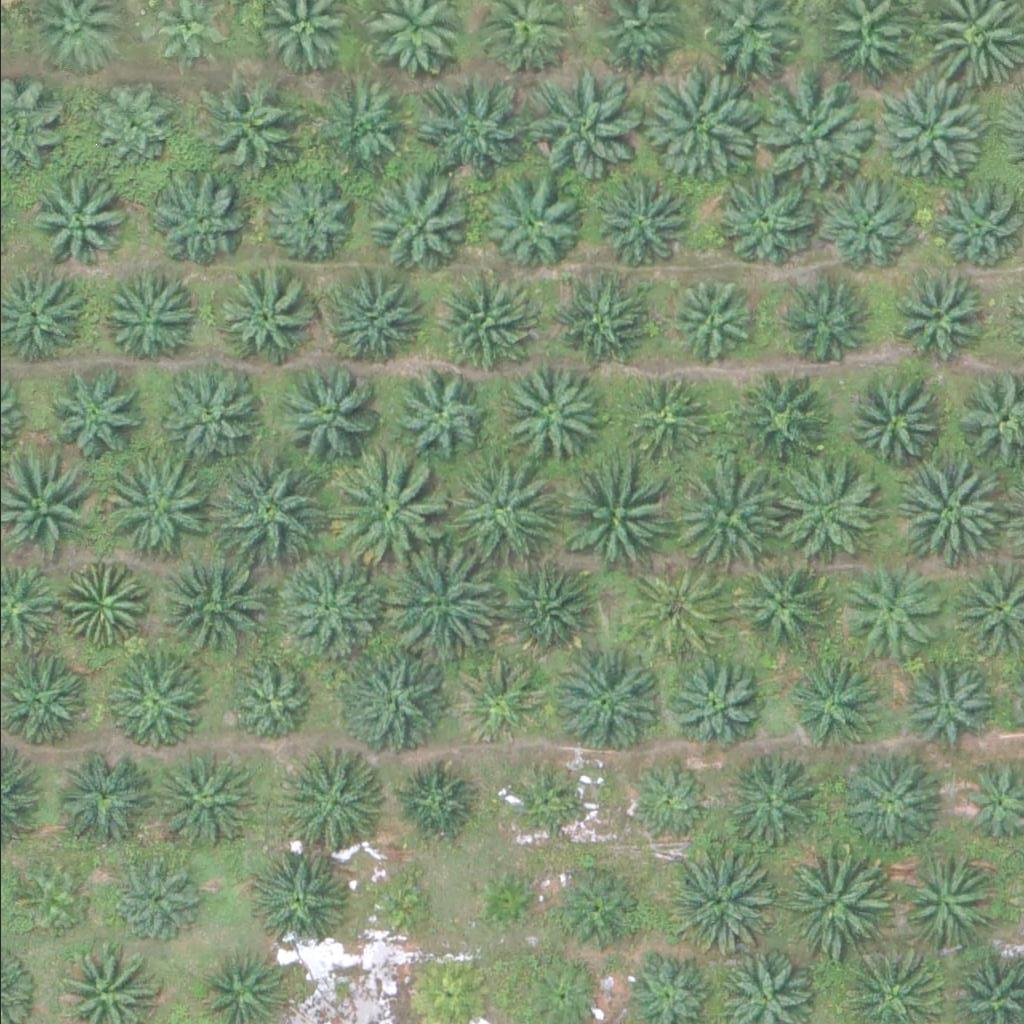Kelapa_Sawit: (441, 450, 555, 563), (669, 459, 783, 572), (95, 455, 208, 568), (211, 454, 324, 567), (663, 843, 776, 956), (775, 844, 888, 957), (762, 453, 875, 566), (891, 459, 1004, 572), (642, 67, 755, 180), (758, 80, 871, 193), (872, 71, 985, 184), (273, 555, 387, 667), (566, 461, 680, 573), (415, 68, 528, 180), (328, 452, 441, 564), (380, 542, 493, 654), (159, 547, 272, 659), (339, 645, 452, 757), (549, 644, 662, 756), (526, 74, 639, 186), (315, 74, 416, 174), (204, 77, 305, 177), (481, 171, 582, 271), (27, 177, 128, 277), (213, 269, 314, 369), (437, 270, 538, 370), (386, 367, 487, 467), (276, 365, 377, 465), (40, 360, 141, 460), (109, 651, 210, 751), (145, 753, 246, 853), (54, 751, 155, 851), (247, 844, 348, 944), (894, 851, 995, 951), (834, 749, 935, 849), (721, 751, 822, 851), (662, 653, 763, 753), (844, 559, 945, 659), (734, 556, 835, 656), (549, 272, 650, 372), (716, 171, 817, 271), (590, 169, 691, 269), (922, 174, 1022, 274), (363, 176, 463, 276), (146, 167, 246, 267), (98, 270, 198, 370), (327, 277, 427, 377), (496, 361, 596, 461), (159, 364, 259, 464), (492, 557, 592, 657), (284, 750, 384, 850), (626, 562, 726, 662), (844, 373, 944, 473), (730, 373, 830, 473), (779, 276, 879, 376), (888, 268, 988, 368), (815, 177, 915, 277), (85, 81, 173, 169), (621, 756, 709, 844), (789, 659, 877, 747), (898, 658, 986, 746), (623, 372, 711, 460), (661, 274, 749, 362), (456, 659, 544, 746), (264, 176, 352, 263), (64, 562, 152, 649), (222, 663, 310, 750), (392, 758, 480, 845), (115, 856, 203, 943), (549, 862, 637, 949), (469, 862, 545, 937), (361, 866, 437, 941), (499, 768, 574, 843), (14, 863, 89, 938)
